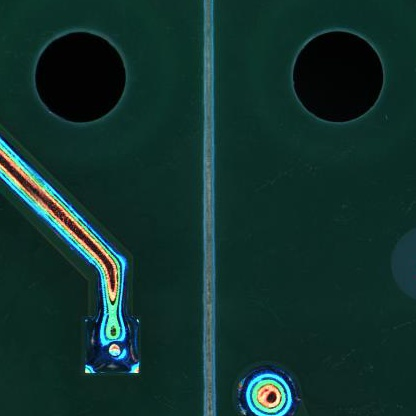spot: (82, 316, 140, 375), (235, 364, 300, 415)
